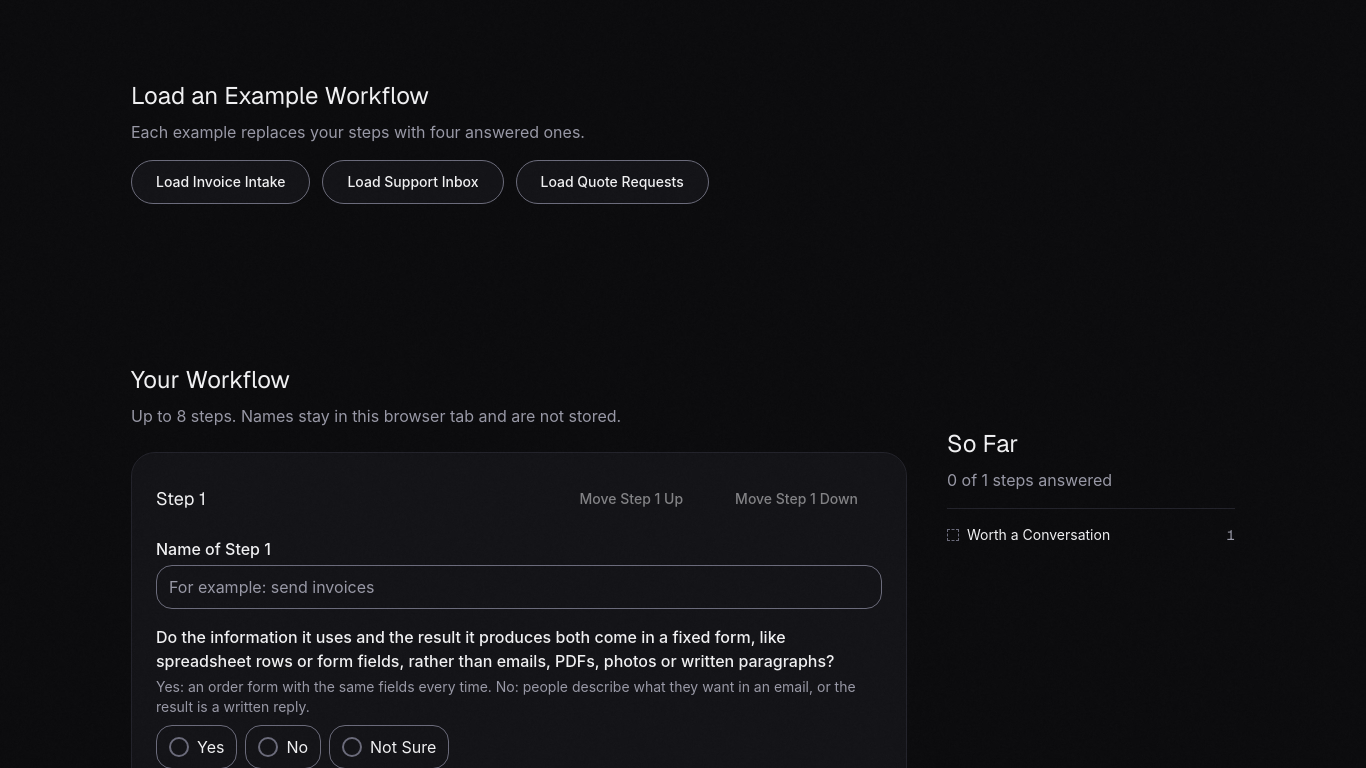
it: WorkflowBuilder live lab › passes the classified verdict and frequency of a step to the live lab
Click the button "Load Invoice Intake": (221, 182) x1=131 y1=160 x2=310 y2=204
(page scrolled)
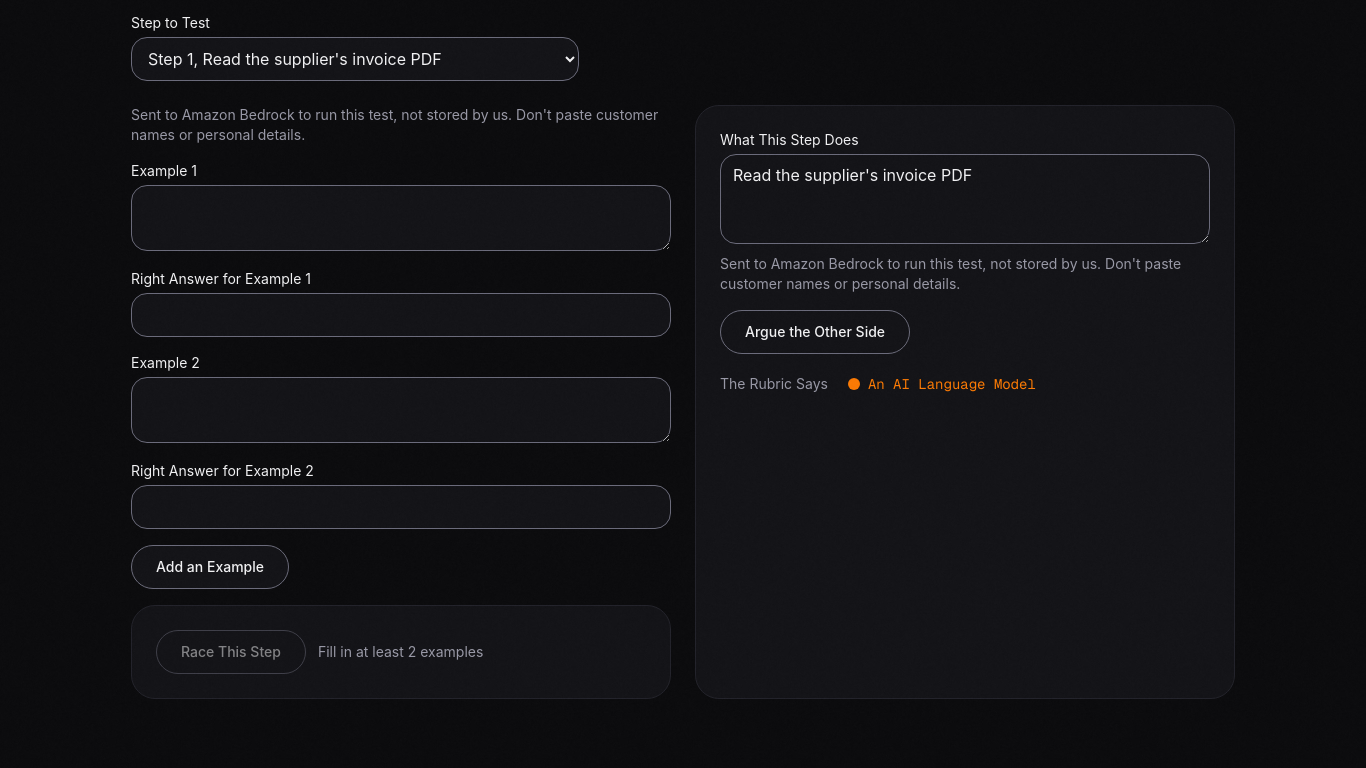
Expected: the text box labelled "What This Step Does" holds "Read the supplier's invoice PDF", x1=720 y1=154 x2=1210 y2=244
Expected: the text "An AI Language Model" is shown, x1=836 y1=370 x2=1048 y2=398
